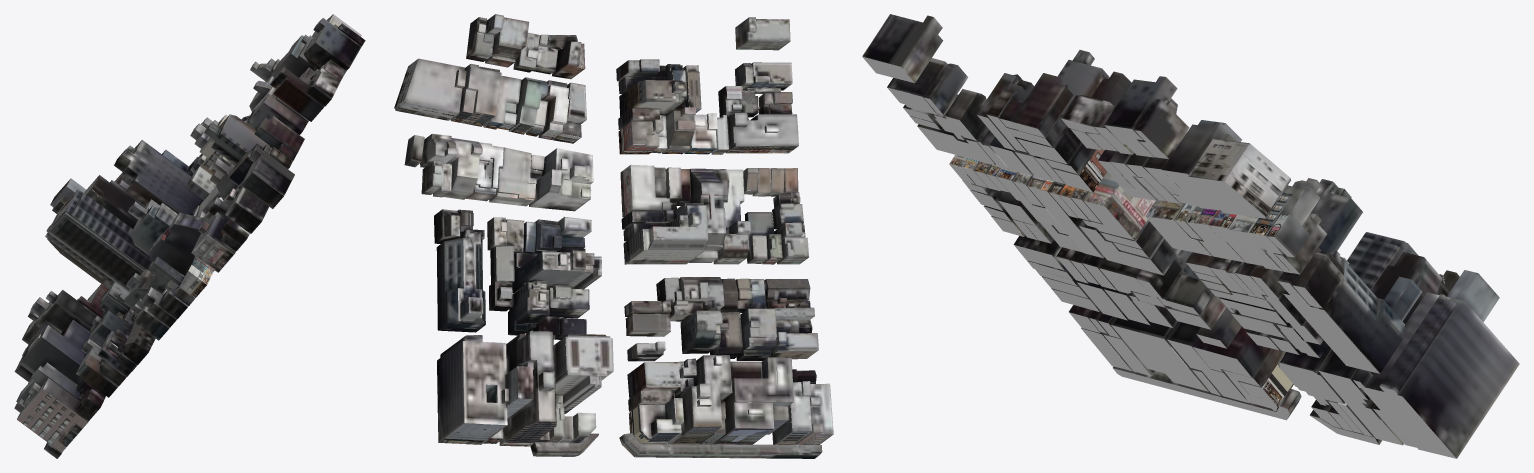
3 renders of one model, left to right at view 1: azimuth 30°, elevation 25°; view 2: azimuth 150°, elevation 25°; view 3: azimuth 270°, elevation 25°, orthographic. The views are drawn at different scales.
Size of the model in its own units: 146 by 135 by 165.
10 materials, 8 textured.
